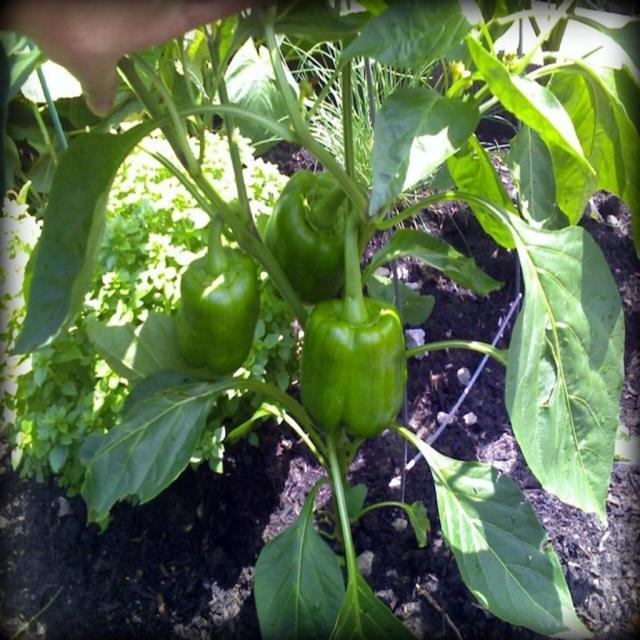Bell pepper: (302, 298, 409, 437), (267, 171, 362, 293), (174, 247, 260, 373)
